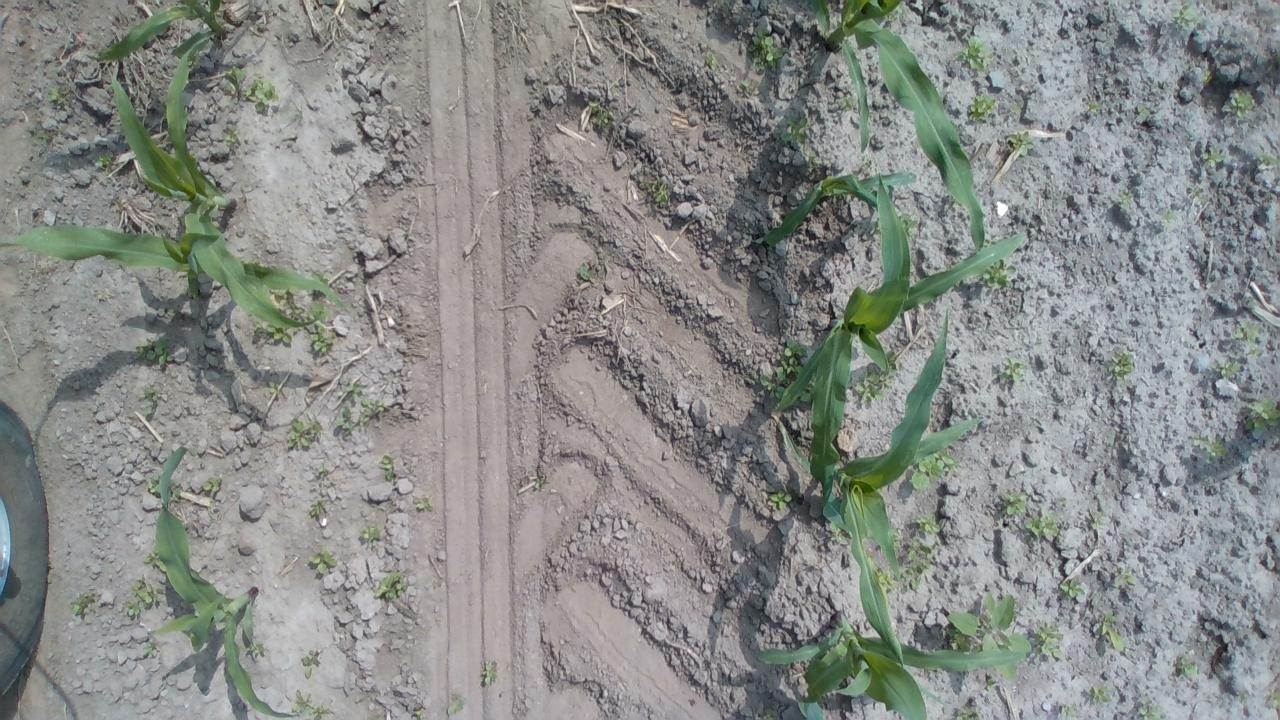Maize: (776, 178, 1040, 508), (105, 38, 328, 340), (791, 306, 985, 596), (136, 444, 341, 718), (806, 11, 994, 255), (1, 211, 356, 335), (758, 603, 1026, 720), (769, 160, 910, 250), (92, 0, 244, 52)
Weeds: (939, 590, 1031, 686), (219, 64, 280, 118), (907, 448, 960, 500), (777, 342, 820, 402), (854, 353, 900, 406), (130, 334, 180, 374), (901, 534, 936, 590), (972, 256, 1019, 296), (1094, 608, 1130, 660), (750, 31, 789, 79), (1028, 616, 1066, 665), (952, 34, 994, 76), (124, 575, 164, 619), (1234, 396, 1280, 434), (283, 412, 325, 451), (248, 315, 292, 352), (287, 686, 334, 720), (303, 316, 340, 358), (776, 115, 816, 152), (69, 584, 105, 624), (1022, 506, 1064, 540), (1000, 127, 1042, 161), (354, 394, 389, 434), (146, 476, 186, 509), (994, 356, 1030, 391), (1172, 644, 1206, 681), (962, 88, 994, 127), (1130, 692, 1174, 720), (1189, 431, 1230, 461), (756, 366, 790, 402), (140, 543, 173, 580), (138, 384, 170, 422), (945, 696, 995, 720), (372, 572, 412, 602), (644, 172, 678, 206), (761, 488, 797, 520), (1110, 346, 1138, 387), (328, 404, 358, 442), (996, 486, 1029, 520), (308, 546, 343, 578), (196, 472, 226, 509), (298, 644, 330, 677), (238, 635, 268, 668), (474, 654, 504, 687), (306, 494, 338, 524), (1107, 561, 1136, 594), (333, 374, 369, 400), (86, 148, 122, 174), (224, 126, 254, 156), (1110, 188, 1140, 218), (1054, 576, 1086, 604), (870, 562, 896, 596), (376, 452, 404, 482), (575, 254, 606, 280), (891, 210, 919, 238), (1225, 89, 1252, 118), (913, 512, 943, 538), (1196, 140, 1226, 166), (409, 492, 435, 521), (1082, 683, 1114, 706), (446, 688, 471, 717), (1166, 6, 1198, 28), (310, 460, 336, 487), (1186, 182, 1211, 210), (41, 84, 70, 108), (358, 522, 386, 546), (584, 99, 606, 128), (698, 50, 724, 74), (1051, 701, 1081, 720), (1089, 507, 1110, 534), (1130, 100, 1150, 127), (1206, 360, 1232, 379), (735, 75, 754, 100), (1159, 208, 1182, 226), (1236, 322, 1254, 344), (1265, 688, 1280, 714), (526, 472, 547, 490), (142, 644, 162, 660), (1081, 95, 1097, 115), (409, 703, 426, 720), (267, 380, 284, 397), (1234, 691, 1250, 706)
